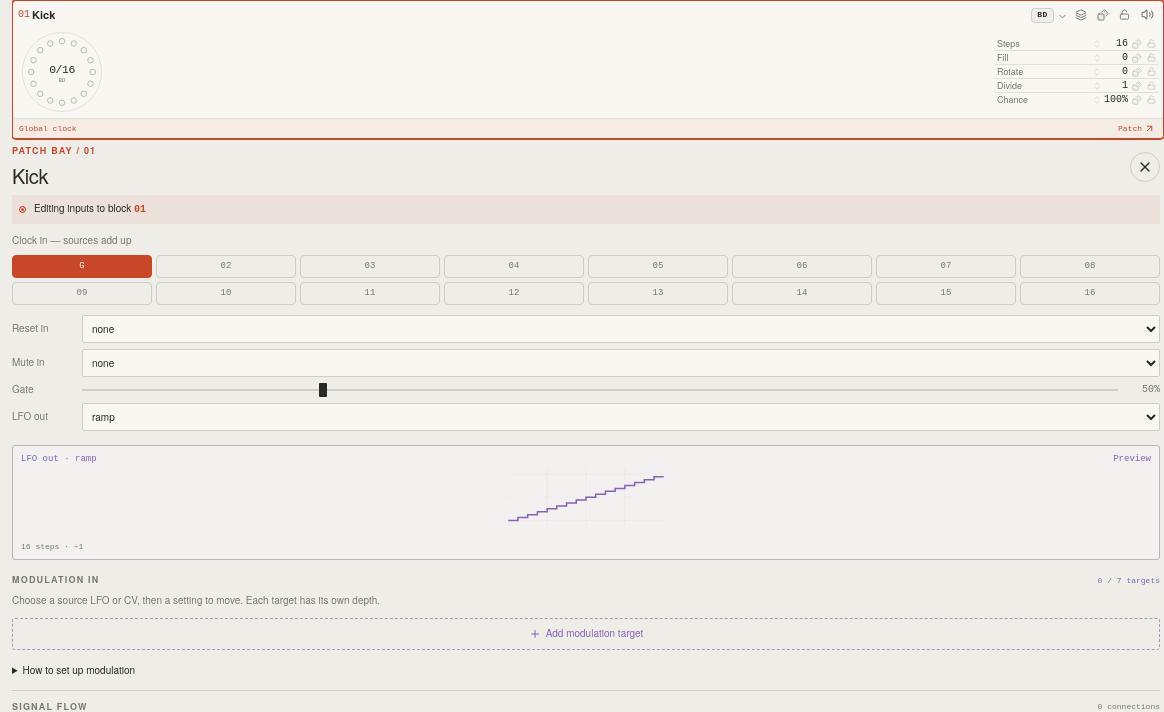
Test case: creates a quantizer card, routes pitch input and retains rhythm modulation controls
Select "Euclidean Quantizer" in the dropdown named "Block type or voice for block 01" at [550, 15], box [32,5,1068,25]
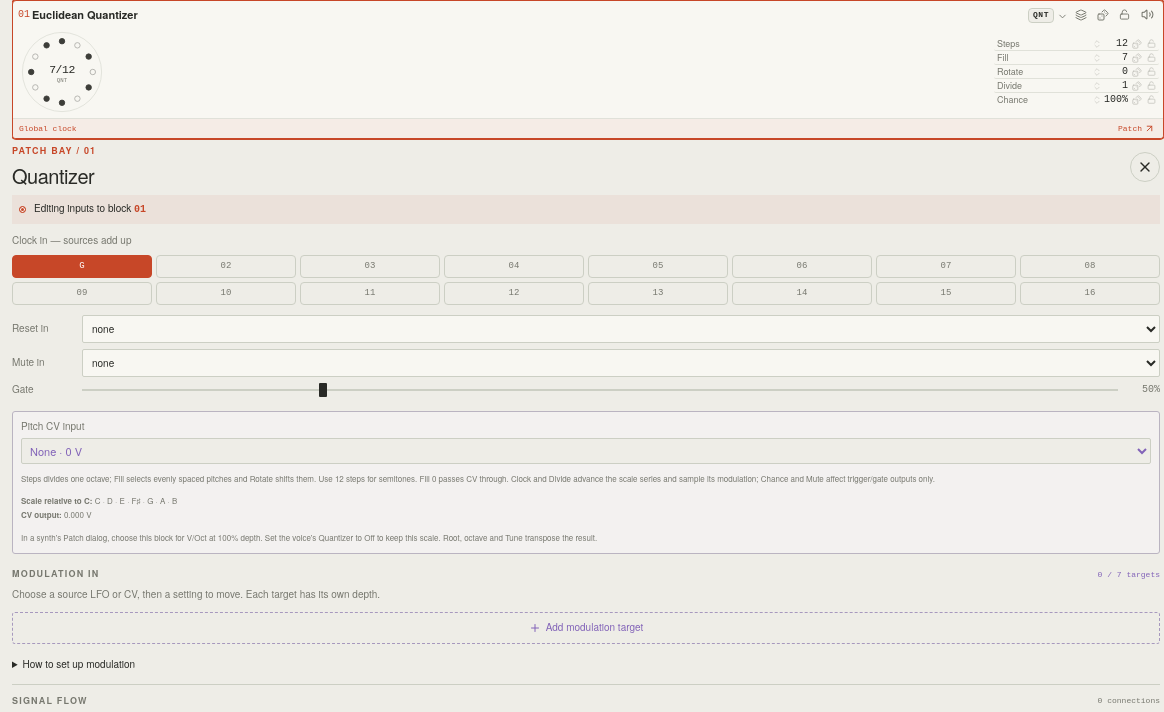
Result: the button with aria-label "Steps: 12" is shown at [994,37,1129,50]
Result: the button with aria-label "Fill: 7" is shown at [994,51,1129,64]
Result: the text named "Euclidean scale" reads "C · D · E · F♯ · G · A · B" at [95,495,177,506]
Select "13 Modulator" in the dropdown labelled "Pitch CV input" at [586, 450], box [21,438,1151,464]
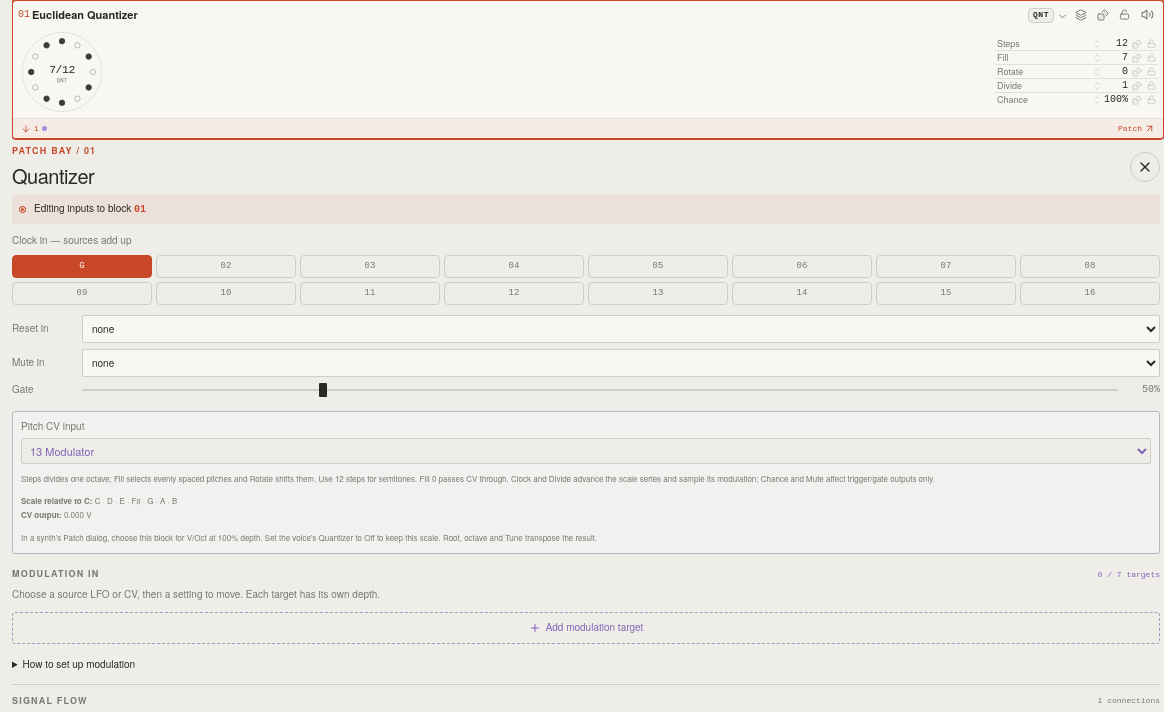
Click the button "Add modulation target".
click(586, 628)  # box [12,612,1160,644]
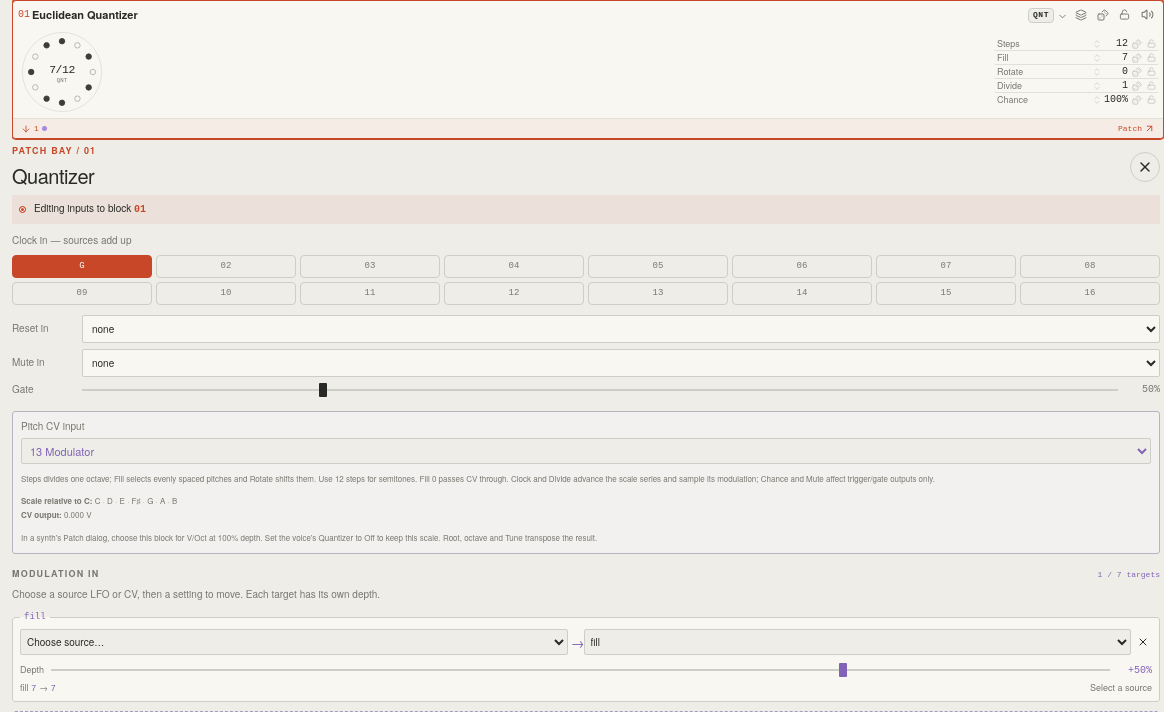
Select "14 Modulator" in the dropdown named "Modulation source for fill" at [294, 642], box [20,629,568,655]
(page scrolled)
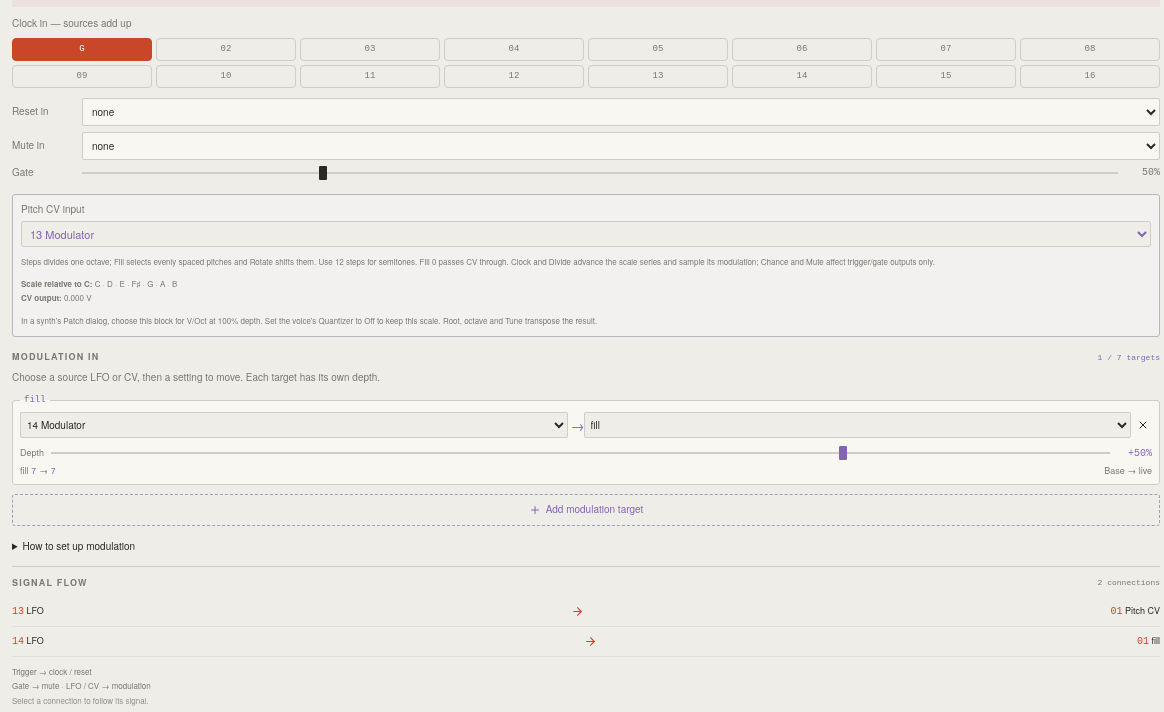
Result: the button with aria-label "Block 14 LFO to block 01 fill" is shown at [12,627,1160,657]
